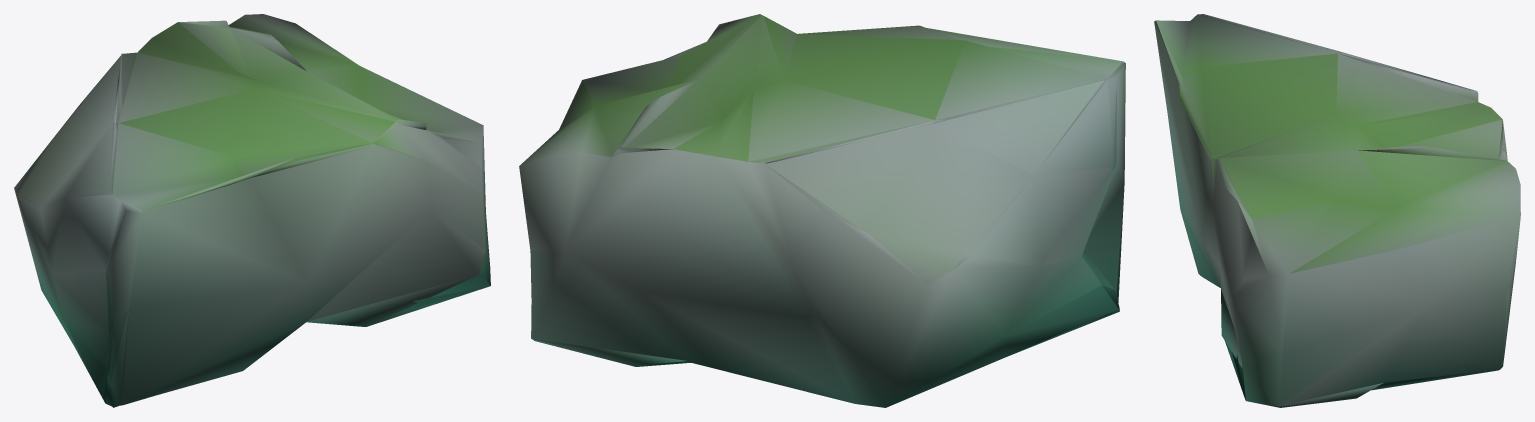
File: grotto_rubble_b_lod2.glb
The picture shows the model from 3 angles, left to right: view 1: azimuth 30°, elevation 25°; view 2: azimuth 150°, elevation 25°; view 3: azimuth 270°, elevation 25°; orthographic projection. The views are drawn at different scales.
Parts seen in each view (by area): view 1: grotto_rubble_b.001; view 2: grotto_rubble_b.001; view 3: grotto_rubble_b.001.
Part boxes in pixels (x1,y1,x2,y2): grotto_rubble_b.001: (14, 14, 490, 407); grotto_rubble_b.001: (519, 14, 1125, 407); grotto_rubble_b.001: (1154, 14, 1520, 407).
Size of the model in its own units: 2.57 by 1.23 by 1.99.
